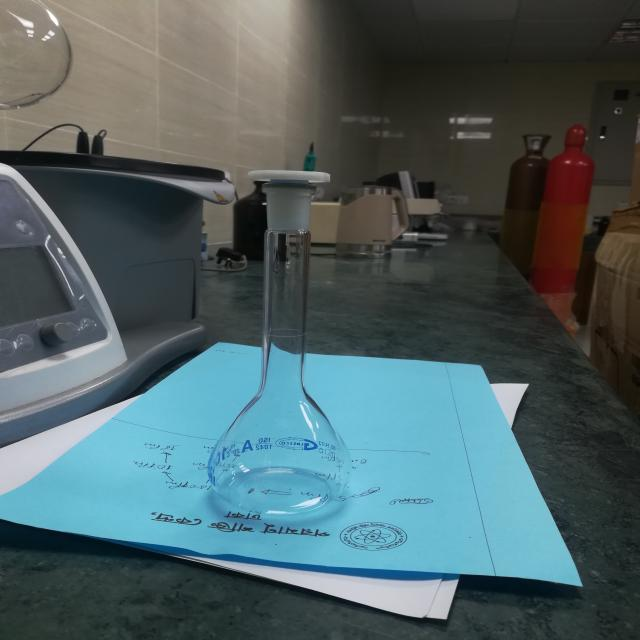Volumetric_Flask: (160, 129, 424, 606)
